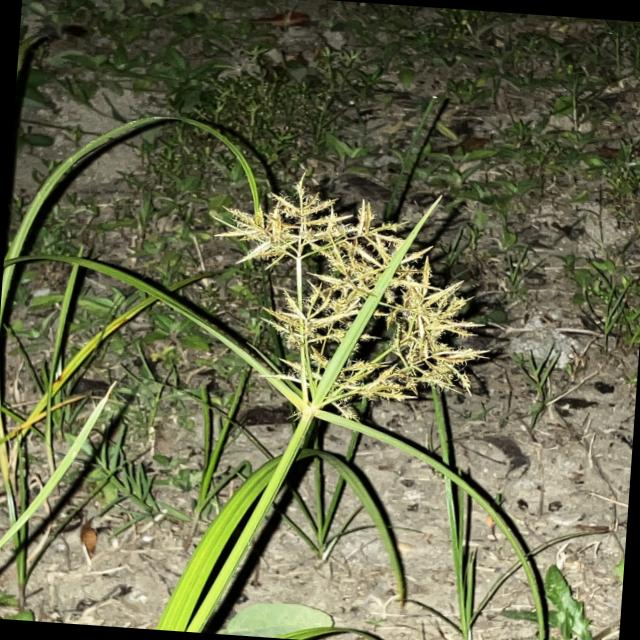cyperus: (193, 156, 509, 432)
